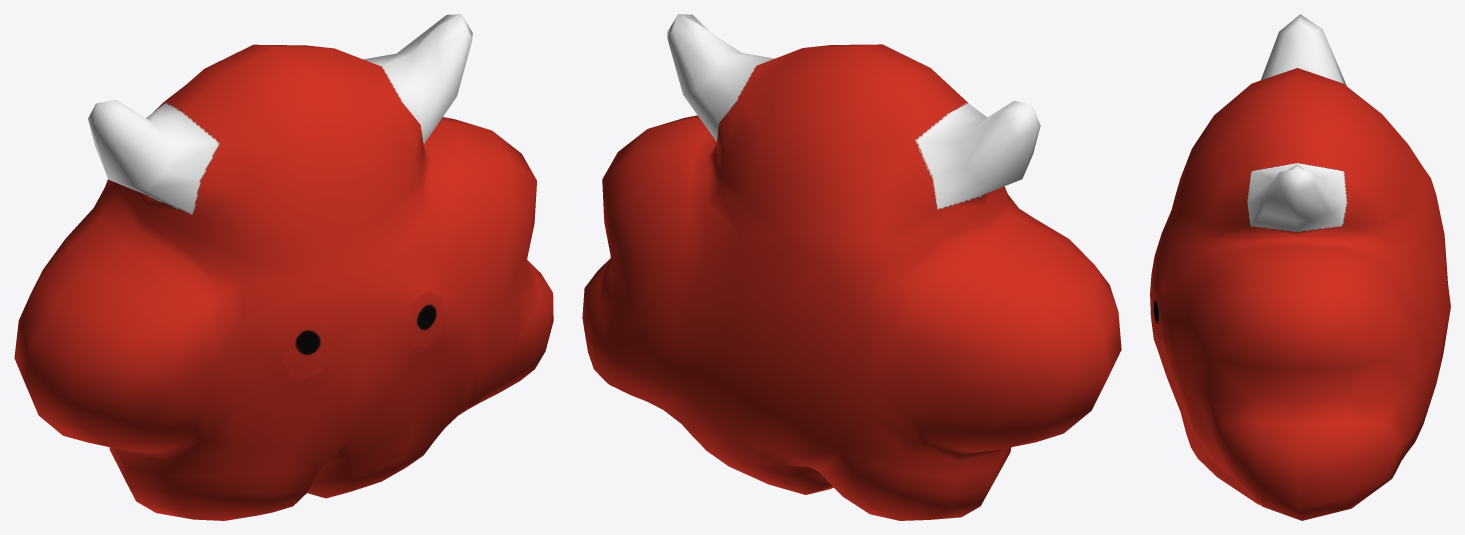
The model's file is chomise.fbx.
The picture shows the model from 3 angles, left to right: view 1: azimuth 30°, elevation 25°; view 2: azimuth 150°, elevation 25°; view 3: azimuth 270°, elevation 25°; orthographic projection. The views are drawn at different scales.
Parts seen in each view (by area): view 1: chomise; view 2: chomise; view 3: chomise.
Boxes of the visible parts, x1,y1,x2,y2 form: chomise: (14,14,553,520); chomise: (582,14,1121,520); chomise: (1150,14,1450,520).
Size of the model in its own units: 106 by 88.84 by 60.09.
